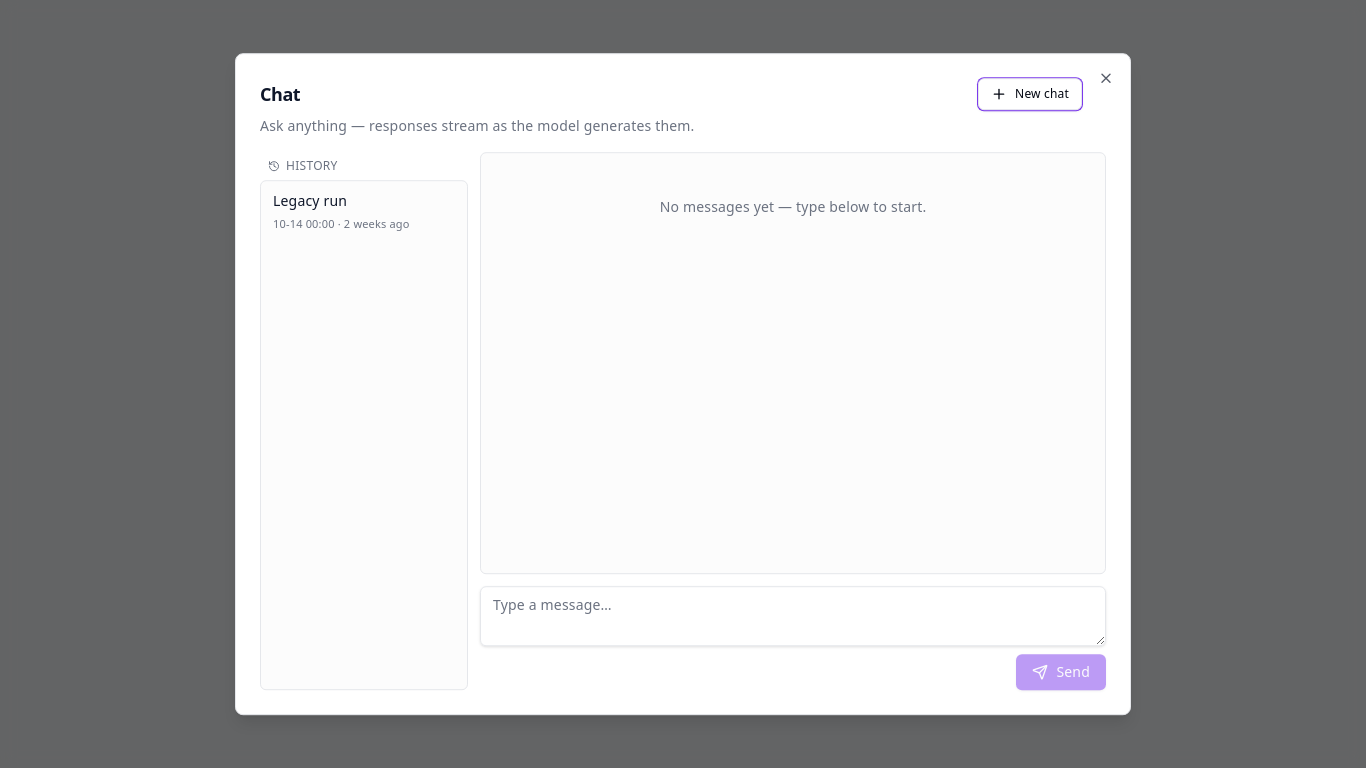
Scenario: ChatPanel chat history › replays a pre-split row with its total only
This screenshot has width=1366, height=768.
Click the button with test id "chat-session-row": (364, 214) [265,185,463,243]
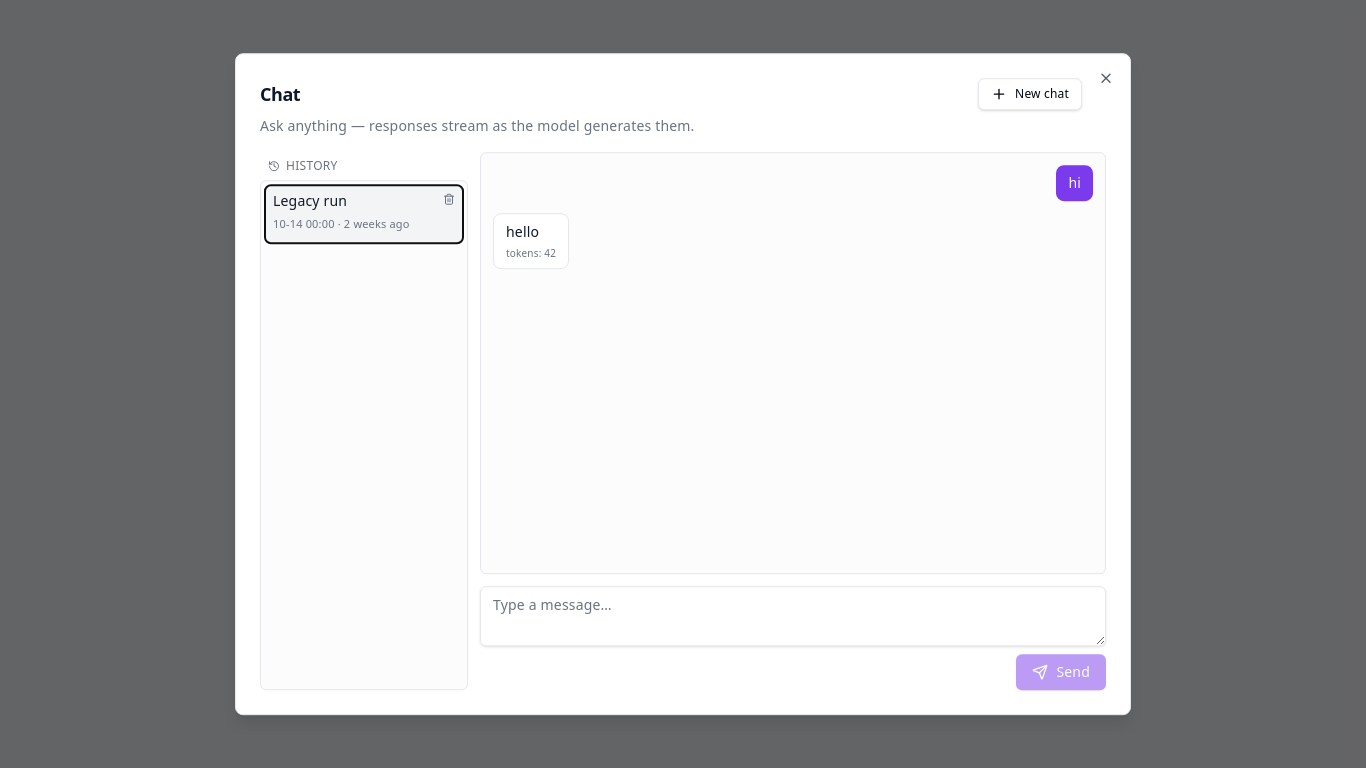
Expected: the element with test id "chat-message-assistant" does not show "prompt", [493,213,569,270]
Expected: the element with test id "chat-message-assistant" shows "tokens: 42", [506,246,556,260]
